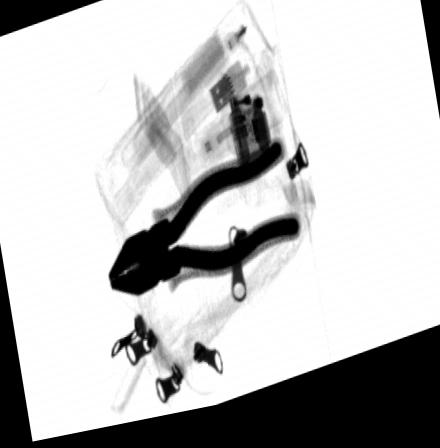Pliers: (107, 149, 301, 303)
